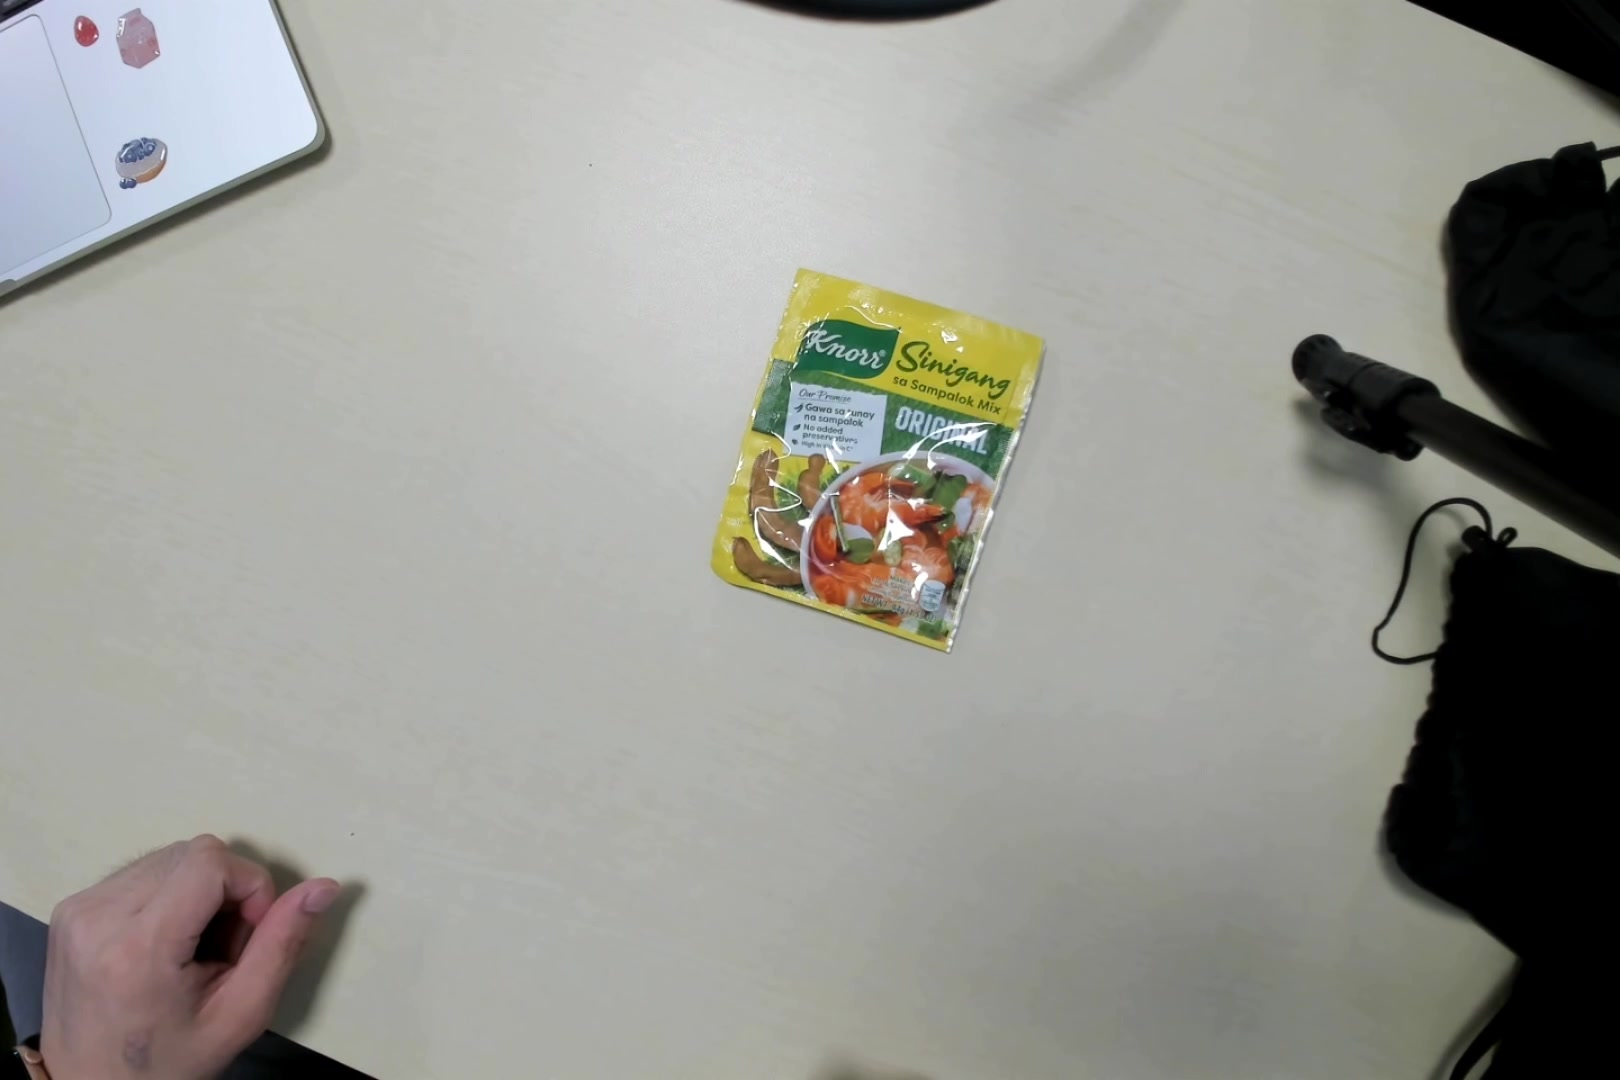SoupStock_0-99g_NonHalal_NonHealthy: (729, 265, 1032, 647)
